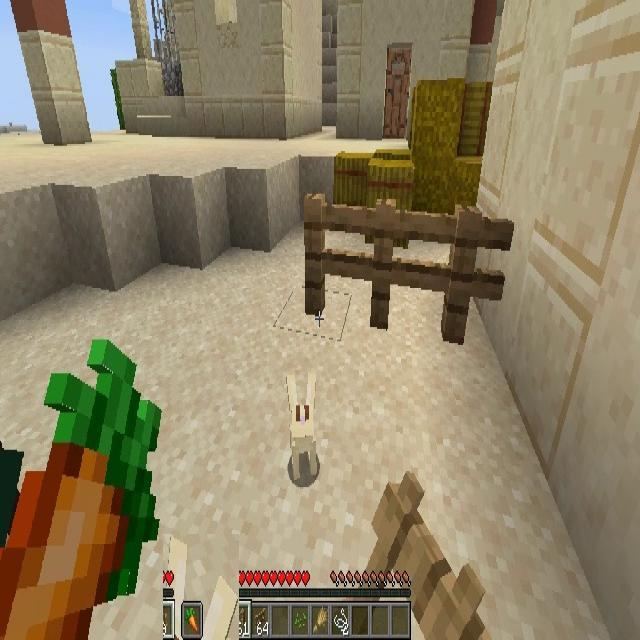rabbit: (163, 534, 240, 640), (288, 374, 316, 478)
